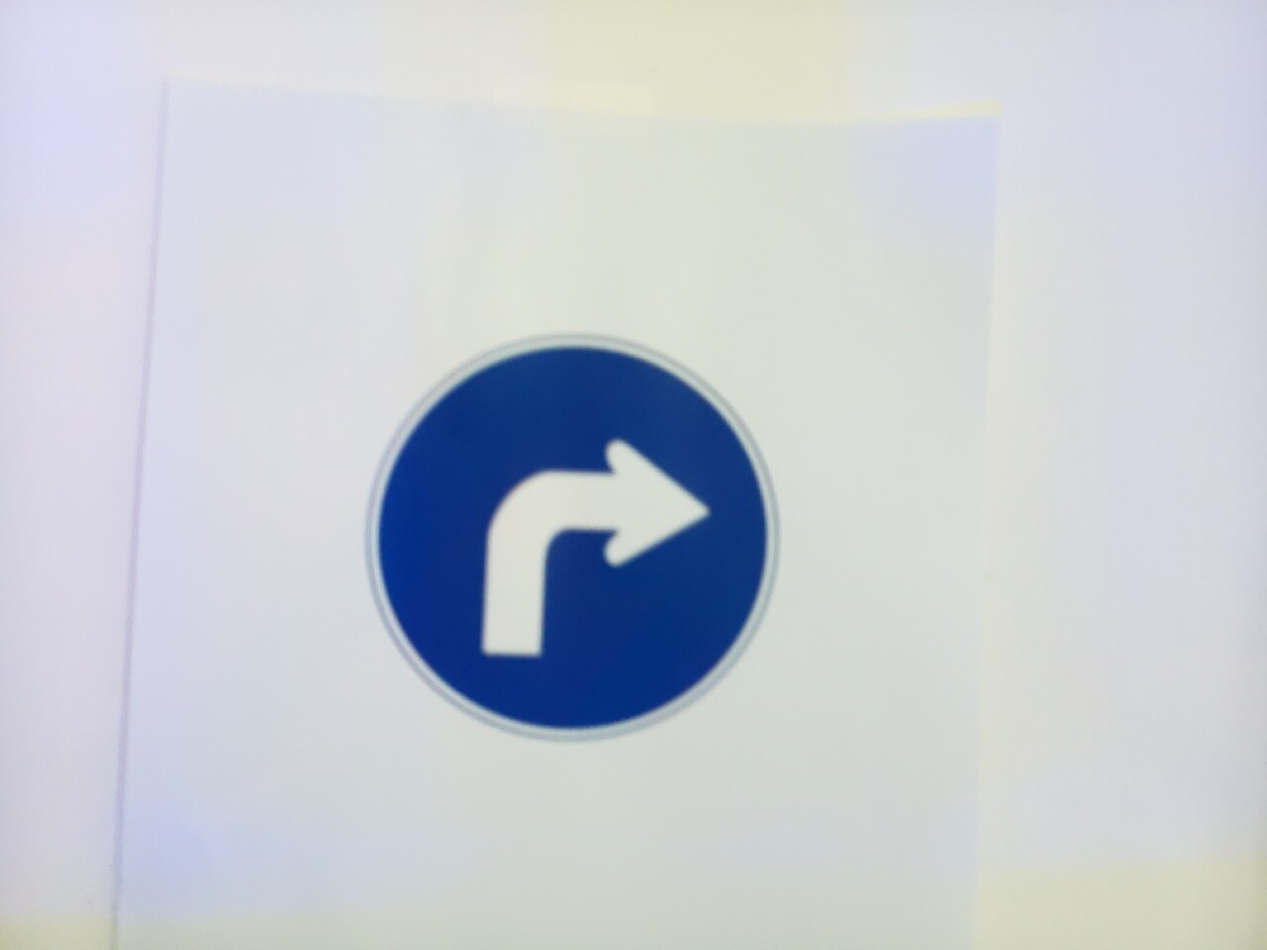right_turn: (366, 335, 779, 740)
